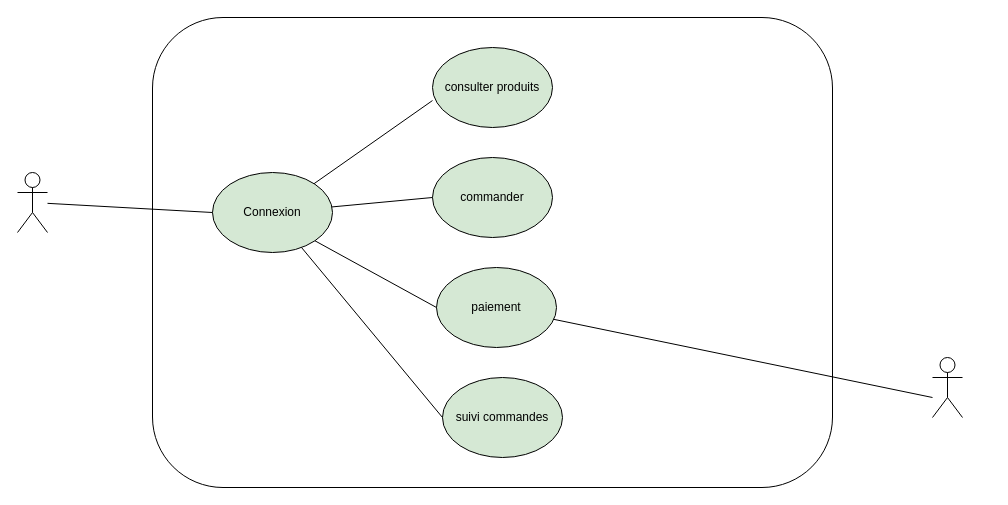
Image size: 1008x505. Some labels were removed from this diagram. The centre of each missing label's shape, as x and y in pixels:
"Client" goes at (32,202).
"service bancaire" goes at (947,387).
